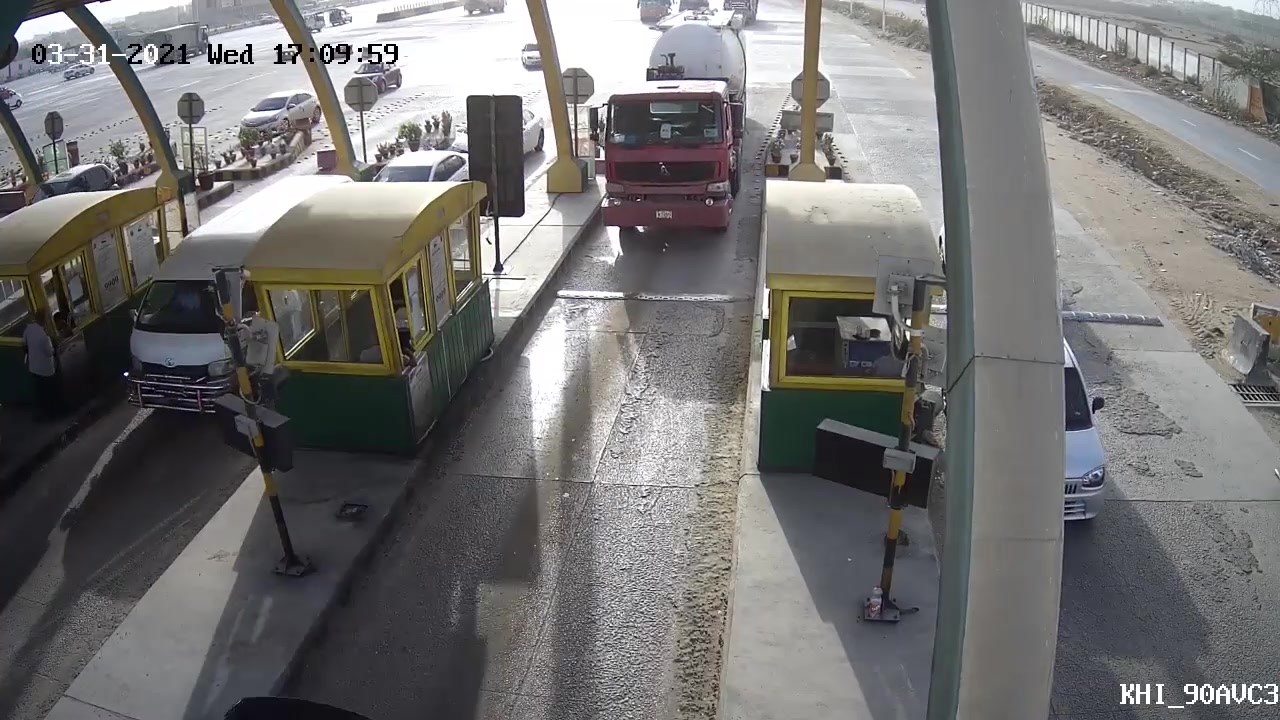F6: (572, 34, 750, 257)
